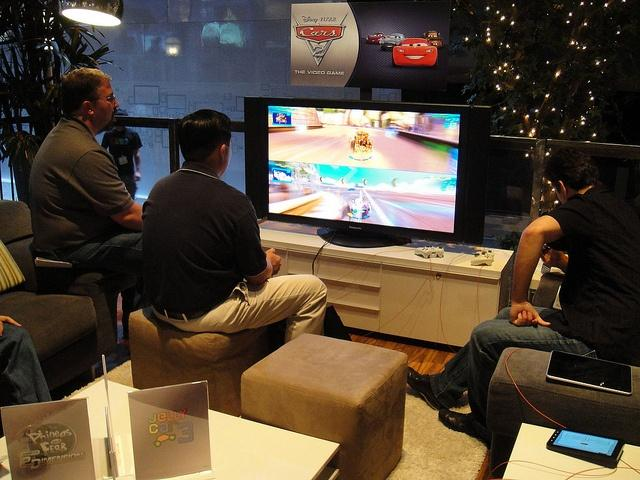AIO PC-Monitor-TV: (242, 95, 491, 247)
